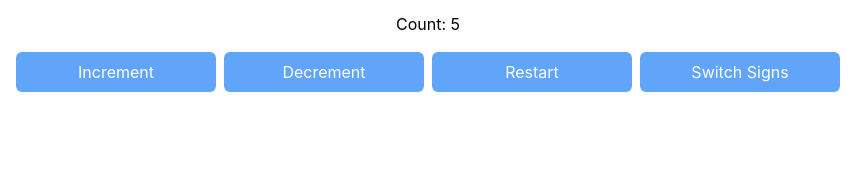
check buttons › resets count when 'Restart' button is clicked
Step 1. Click the button "Restart" → {"x": 532, "y": 72}, box left=432, top=52, right=632, bottom=92
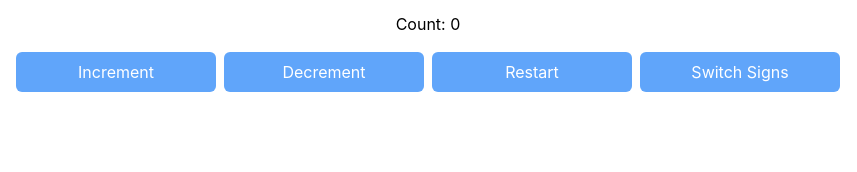
Check: the text with test id "count" reads "0", box left=450, top=14, right=460, bottom=34
